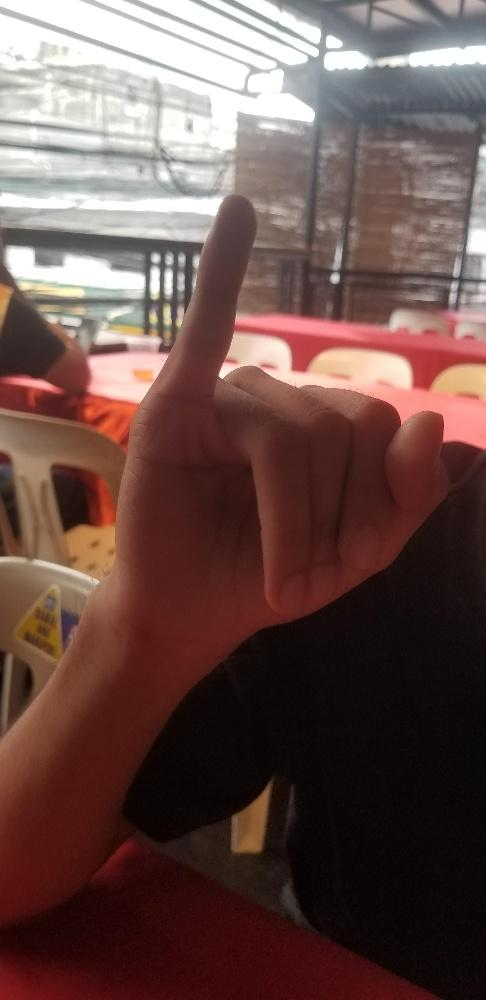i: (108, 190, 458, 645)
